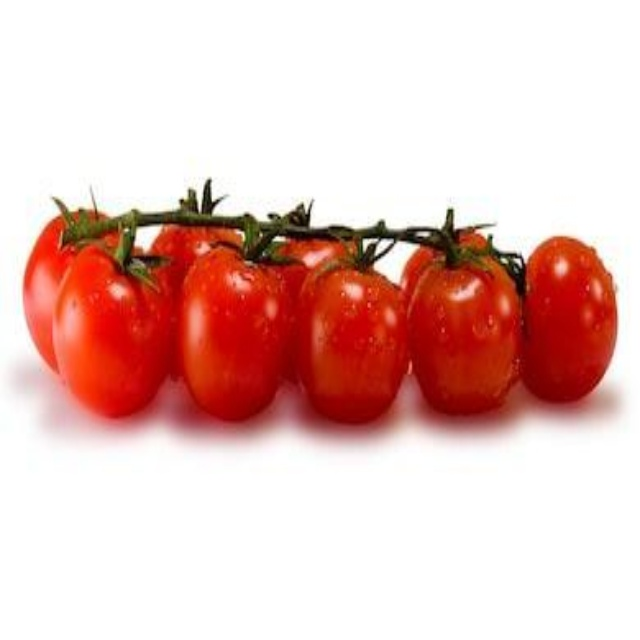tomato: (22, 208, 168, 401), (167, 259, 298, 411), (404, 267, 524, 416), (293, 276, 412, 423), (529, 235, 615, 408), (260, 209, 380, 310), (402, 207, 509, 309), (157, 202, 244, 275)
